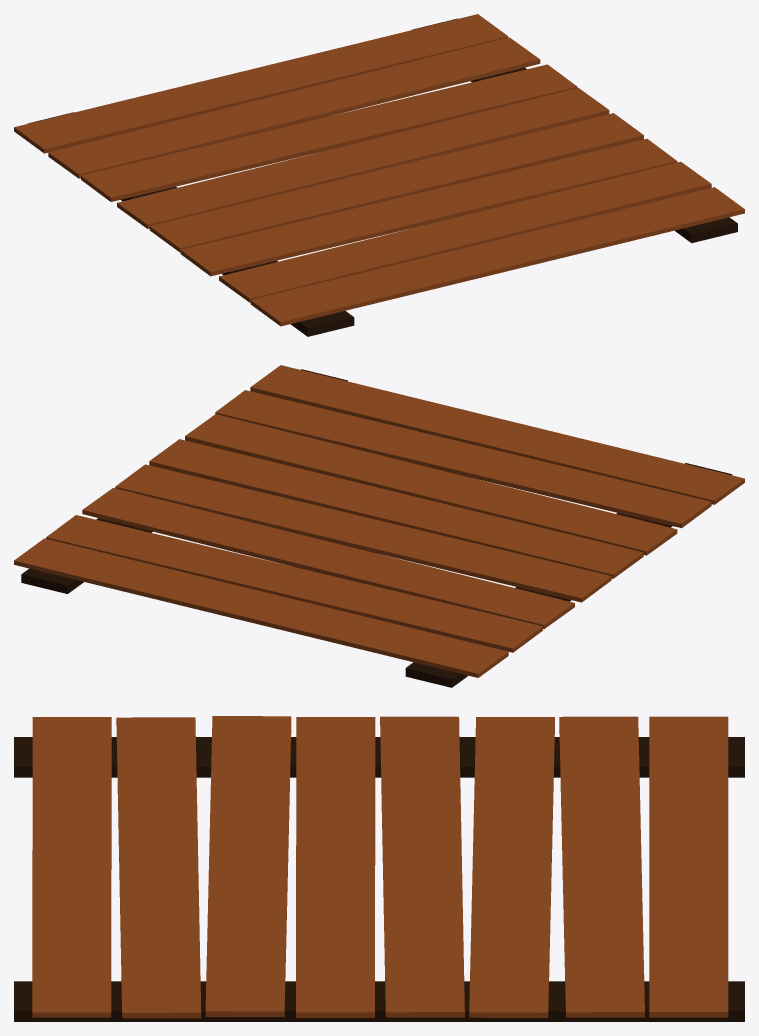
File: wooden_floor_small 1.FBX
3 views of the same model, one above another, from view 1: azimuth 30°, elevation 25°; view 2: azimuth 150°, elevation 25°; view 3: azimuth 270°, elevation 25° (orthographic). The views are drawn at different scales.
Parts seen in each view (by area): view 1: Quader008, Quader006, Quader003, Quader002, Quader005, Quader004, Quader007, Quader001, Quader009, Quader010; view 2: Quader001, Quader007, Quader004, Quader003, Quader006, Quader008, Quader005, Quader002, Quader009, Quader010; view 3: Quader001, Quader004, Quader002, Quader007, Quader008, Quader006, Quader003, Quader005, Quader010, Quader009.
Boxes of the visible parts, <box> form: Quader008: <box>250,187,744,326</box>; Quader006: <box>180,138,677,276</box>; Quader003: <box>81,64,577,201</box>; Quader002: <box>48,37,540,178</box>; Quader005: <box>149,113,643,252</box>; Quader004: <box>117,88,609,228</box>; Quader007: <box>219,161,711,302</box>; Quader001: <box>14,14,508,153</box>; Quader009: <box>27,112,354,336</box>; Quader010: <box>412,18,737,243</box>; Quader001: <box>14,538,508,677</box>; Quader007: <box>215,390,711,528</box>; Quader004: <box>115,464,611,602</box>; Quader003: <box>82,488,574,628</box>; Quader006: <box>185,414,677,555</box>; Quader008: <box>250,365,744,504</box>; Quader005: <box>149,439,643,578</box>; Quader002: <box>46,515,542,652</box>; Quader009: <box>405,463,732,687</box>; Quader010: <box>21,369,347,593</box>; Quader001: <box>649,716,728,1017</box>; Quader004: <box>380,716,464,1017</box>; Quader002: <box>559,716,644,1017</box>; Quader007: <box>116,717,201,1018</box>; Quader008: <box>32,717,111,1017</box>; Quader006: <box>205,716,291,1017</box>; Quader003: <box>469,717,554,1017</box>; Quader005: <box>296,717,375,1017</box>; Quader010: <box>14,981,744,1021</box>; Quader009: <box>14,737,744,777</box>.
Bounding box in the file's own units: 1.23 × 1.28 × 0.0358.
